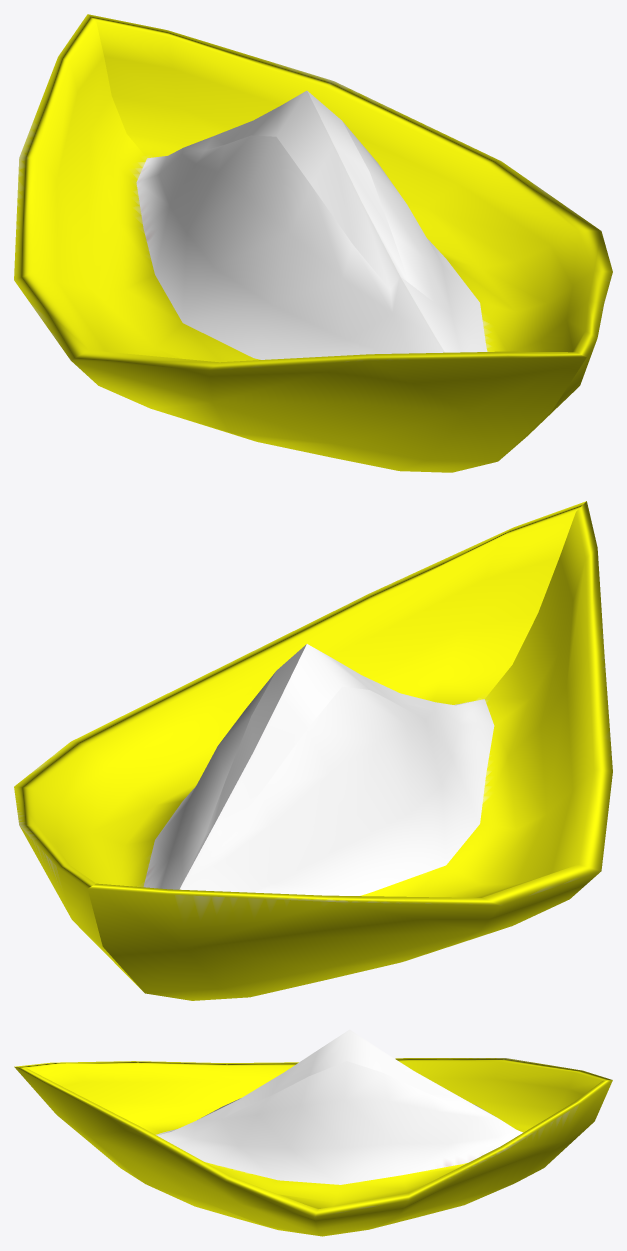
File: YellowBoat.fbx
The picture shows the model from 3 angles, top to bottom: view 1: azimuth 30°, elevation 25°; view 2: azimuth 150°, elevation 25°; view 3: azimuth 270°, elevation 25°; orthographic projection. The views are drawn at different scales.
Visible parts, largest first — view 1: polySurface1; view 2: polySurface1; view 3: polySurface1.
Boxes of the visible parts, bbox=[...] form: polySurface1: bbox=[14, 14, 612, 472]; polySurface1: bbox=[14, 501, 612, 1000]; polySurface1: bbox=[14, 1029, 612, 1236].
Bounding box in the file's own units: 111 × 59 × 181.
1 material, 1 textured.
